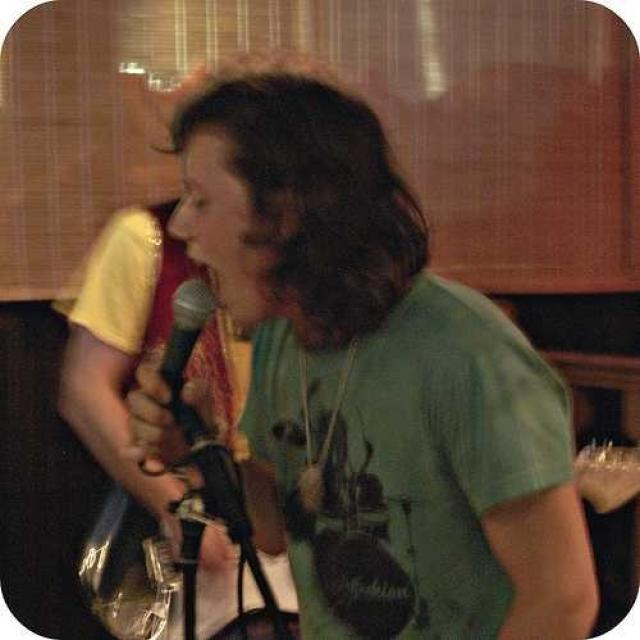microphone: (151, 279, 217, 445)
